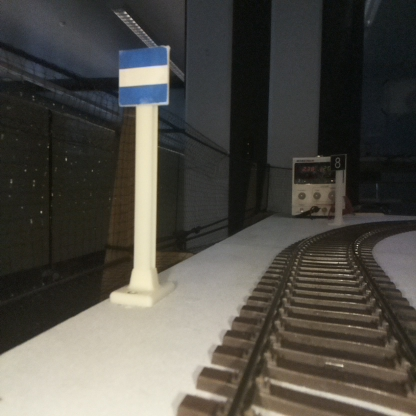black-info-8: (331, 154, 345, 222)
start: (119, 49, 167, 299)
